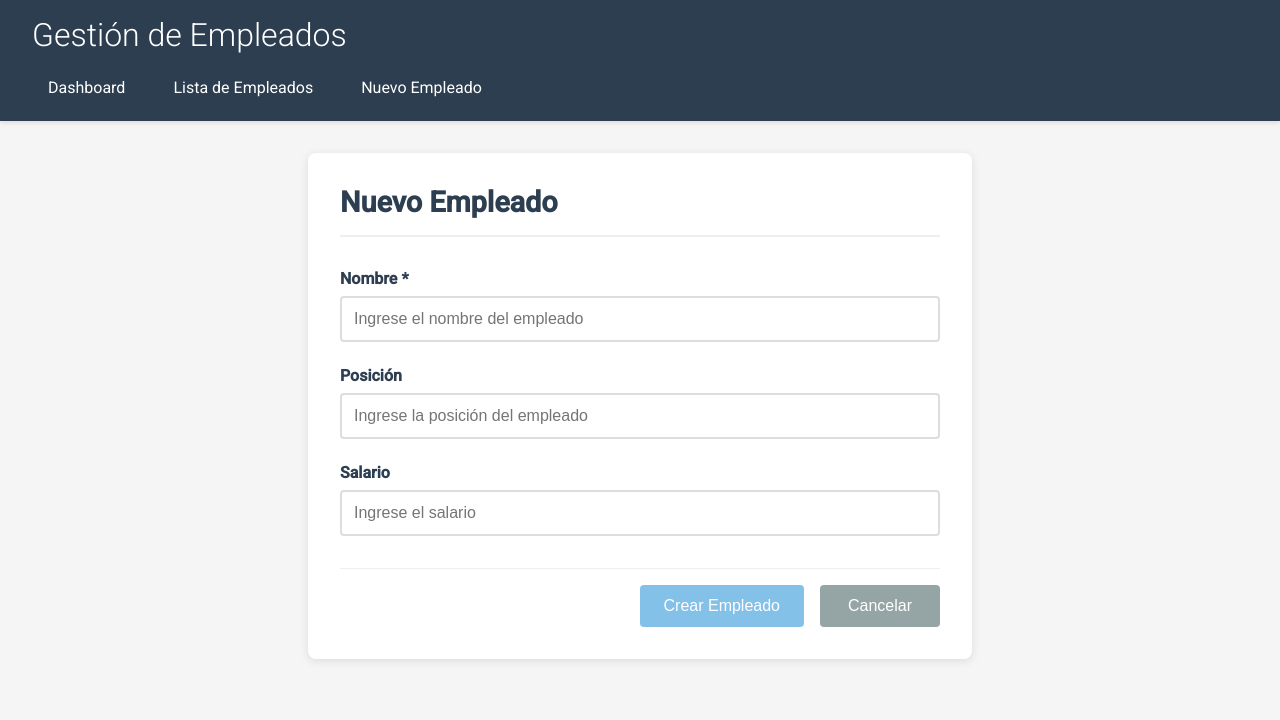
Test case: Employee Form › Create Employee › should show validation error for negative salary
Type "-1000" into the number field named "salary" at (640, 513), box [340, 490, 940, 536]
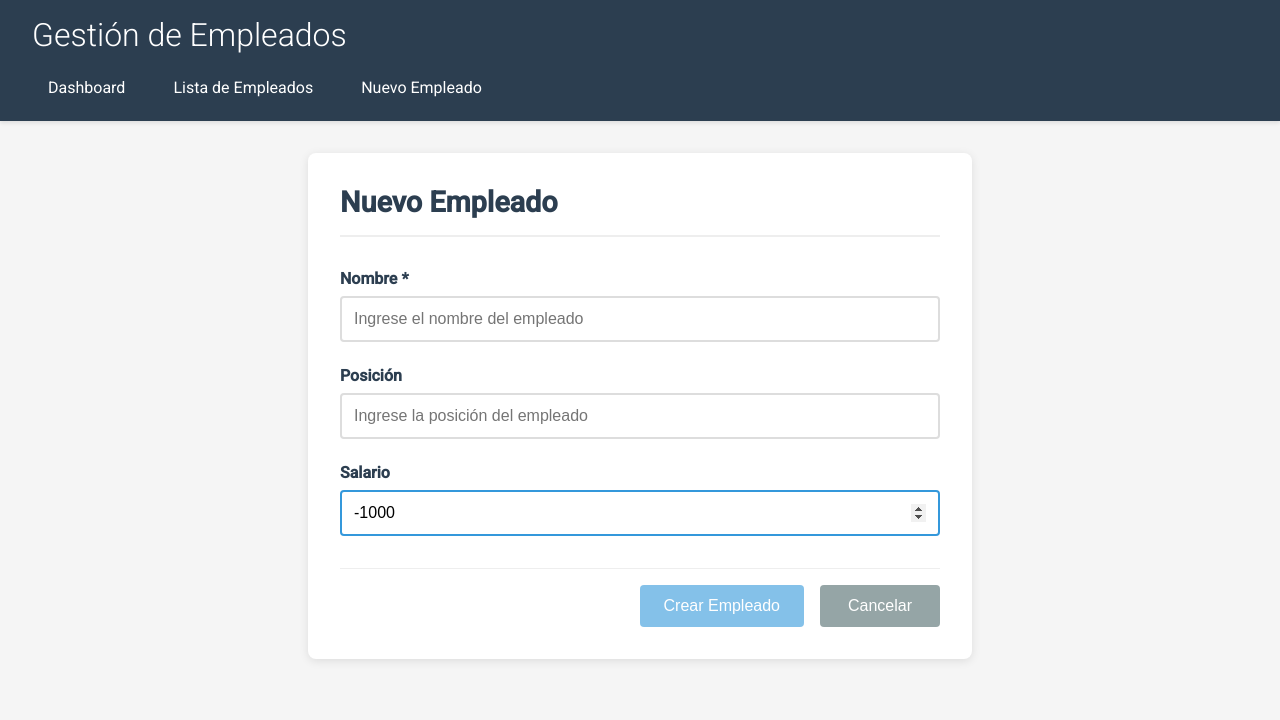
Leave the number field named "salary", box [340, 490, 940, 536]
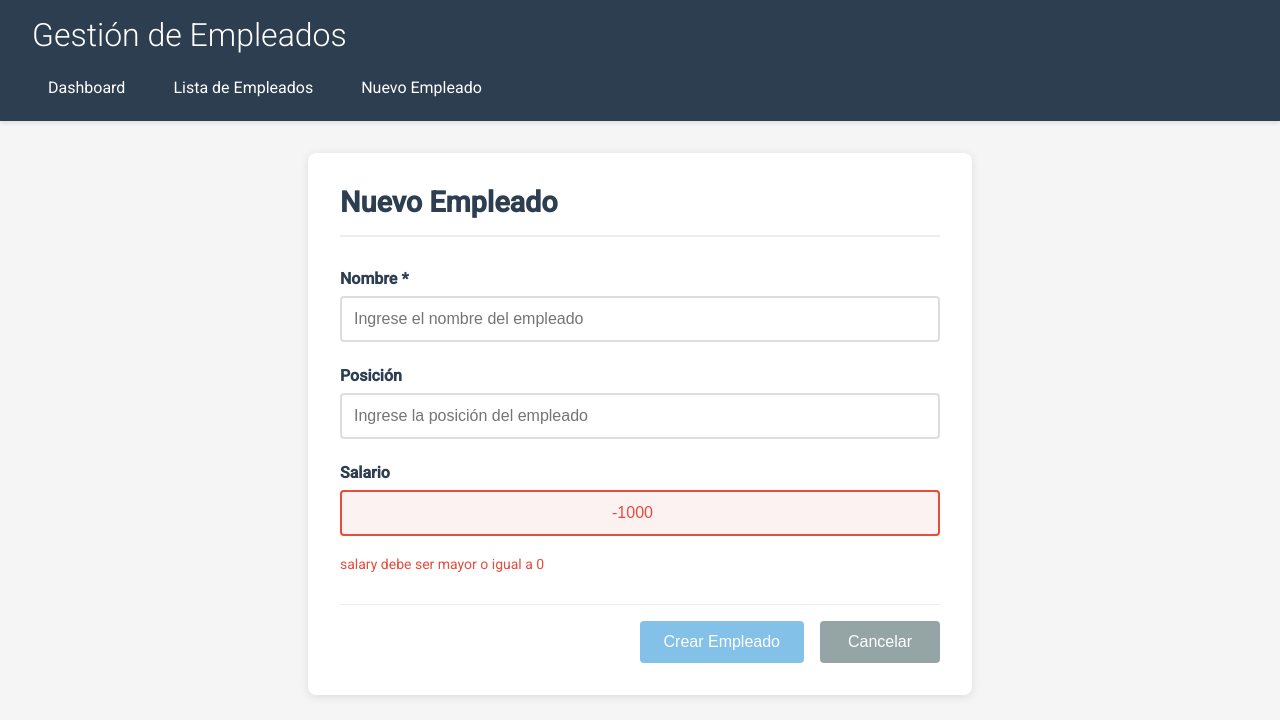
expect the text "salary debe ser mayor o igual a 0" is shown: met, box [340, 556, 544, 572]
